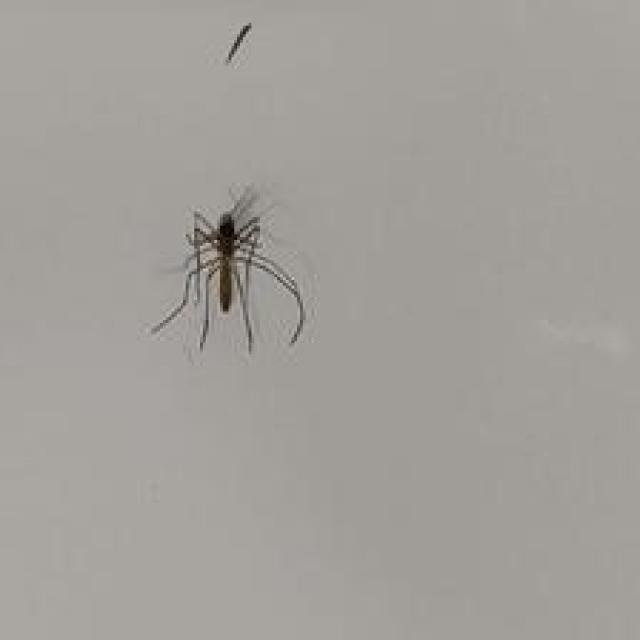Culex: (147, 181, 307, 356)
